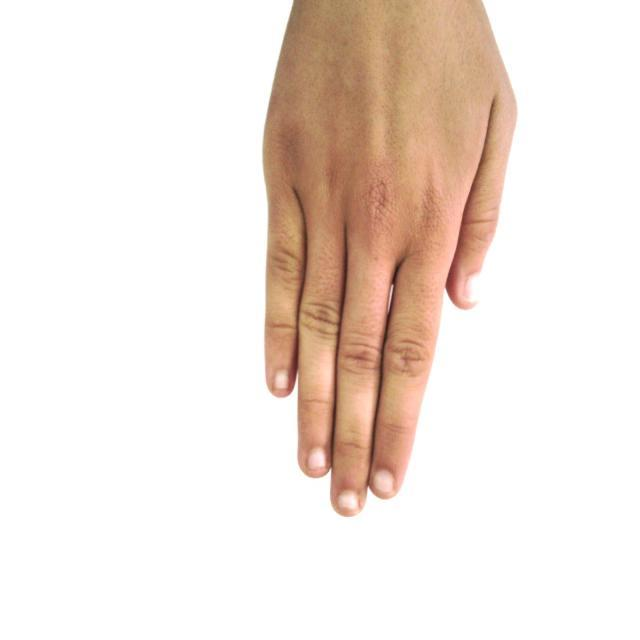Fingernail: (464, 273, 482, 303), (372, 470, 395, 492), (306, 446, 327, 470), (339, 489, 360, 510), (273, 369, 290, 389)
